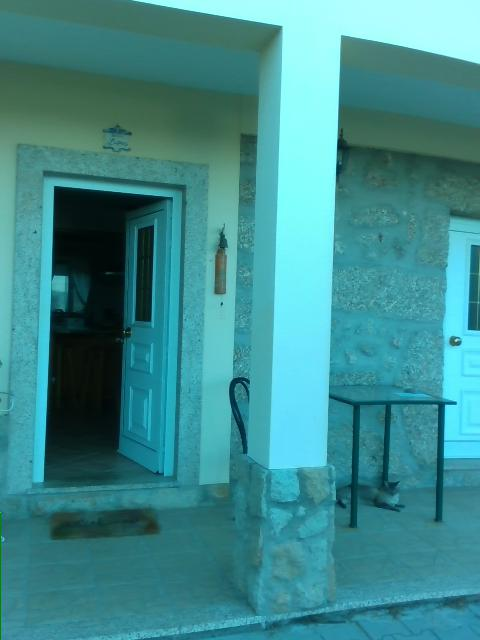door: (116, 198, 172, 475), (445, 231, 480, 461)
